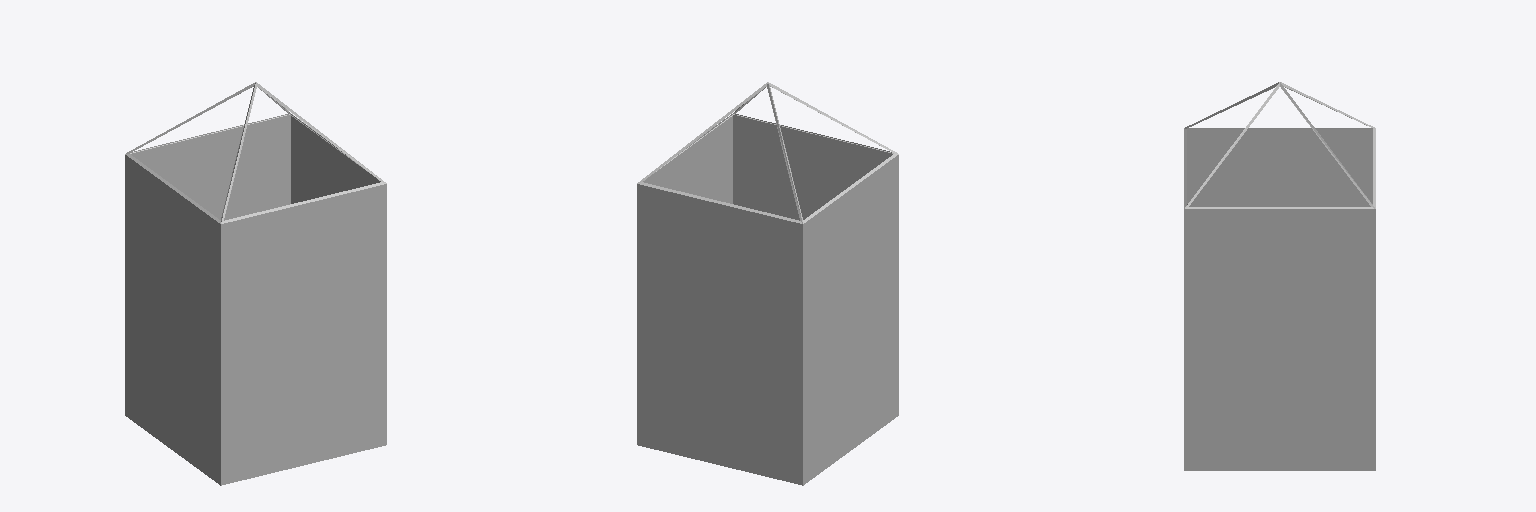
File: square_lantern.obj
3 views of the same model, side by side, from view 1: azimuth 30°, elevation 25°; view 2: azimuth 150°, elevation 25°; view 3: azimuth 270°, elevation 25° (orthographic).
Parts seen in each view (by area): view 1: Lantern, Wire; view 2: Lantern, Wire; view 3: Lantern, Wire.
Boxes of the visible parts, x1,y1,x2,y2 form: Lantern: [125, 115, 386, 485]; Wire: [125, 82, 386, 223]; Lantern: [637, 115, 898, 485]; Wire: [637, 82, 898, 223]; Lantern: [1184, 129, 1375, 470]; Wire: [1184, 82, 1375, 208].
Bounding box in the file's own units: 0.5 × 1 × 0.5.